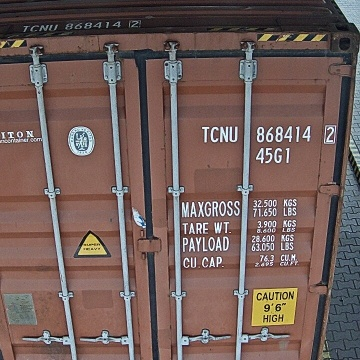serial_id: (202, 125, 336, 142)
